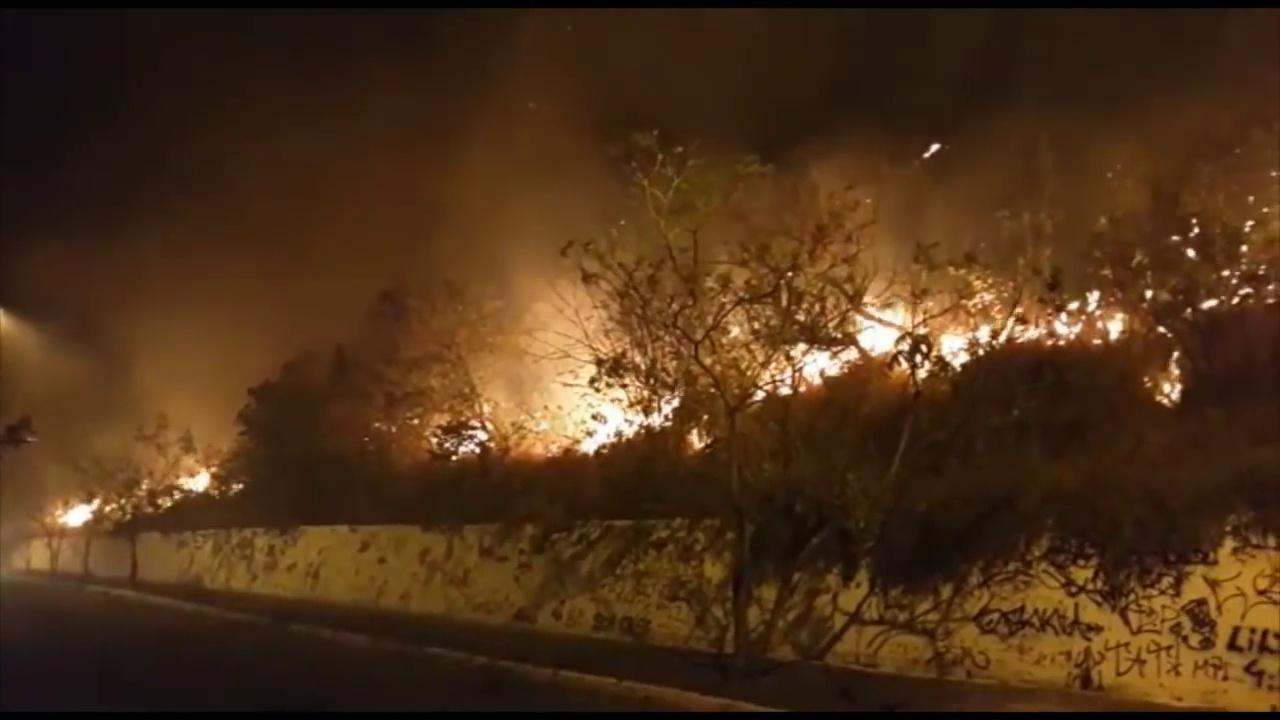fire: (746, 285, 1124, 406), (554, 370, 674, 453), (444, 403, 495, 462), (1146, 351, 1192, 405), (50, 496, 104, 528), (174, 467, 211, 496)
